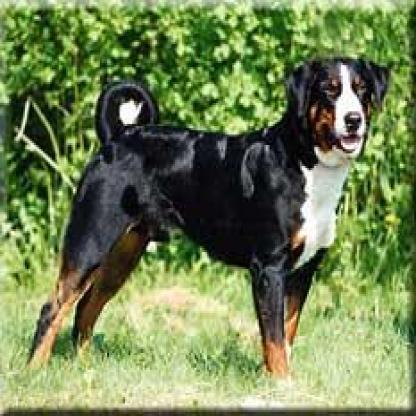Appenzeller: (14, 46, 398, 387)
